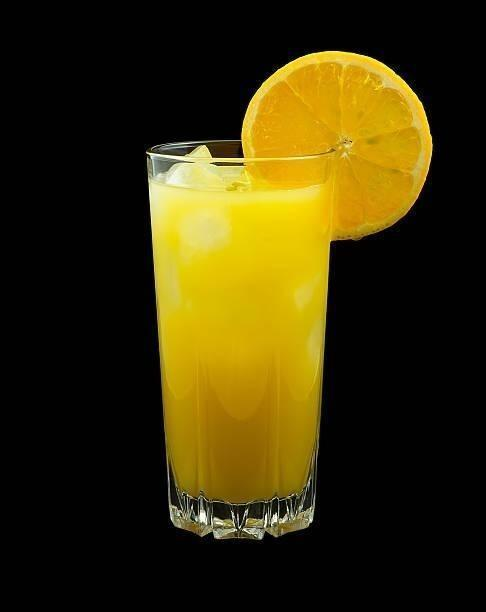glass-normal: (143, 135, 339, 548)
